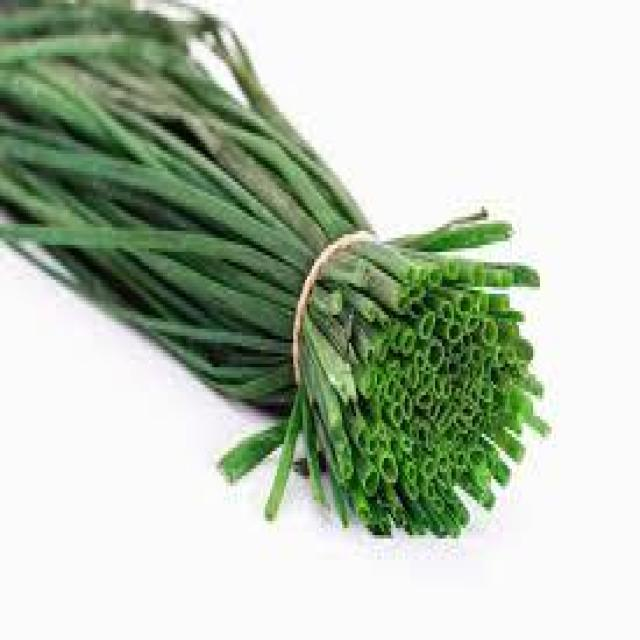Onion: (0, 0, 552, 539)
